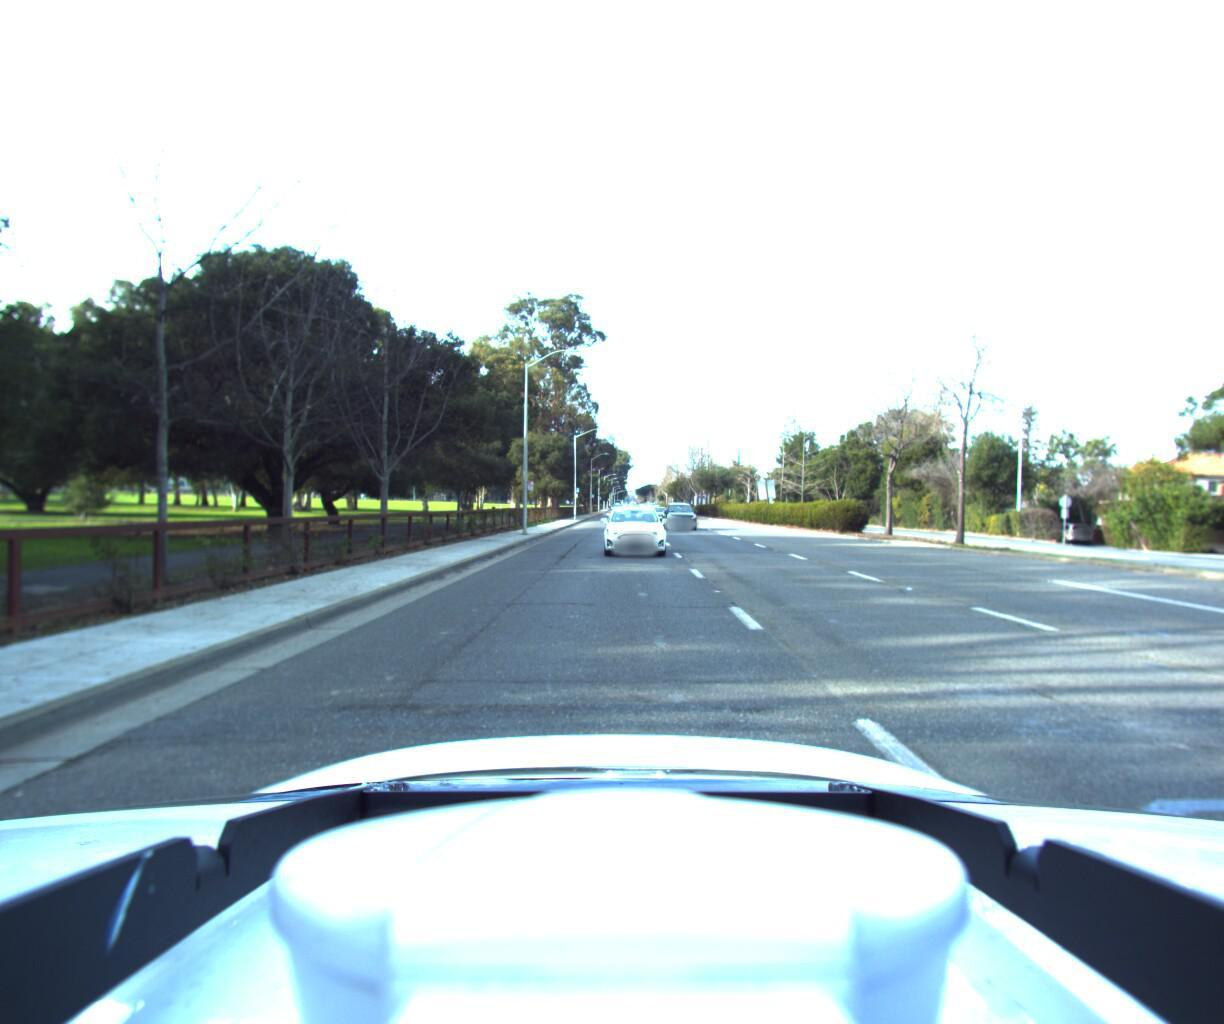car: (602, 500, 669, 556), (1045, 522, 1096, 545), (663, 500, 698, 530)
